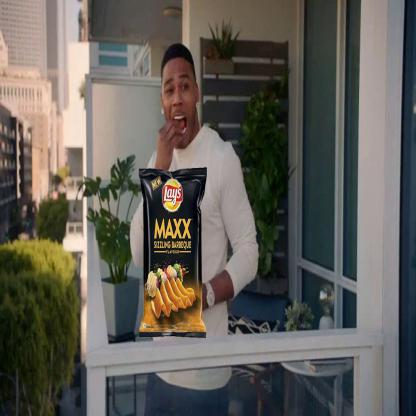maxx_sizzling_barbeque: (140, 171, 203, 336)
